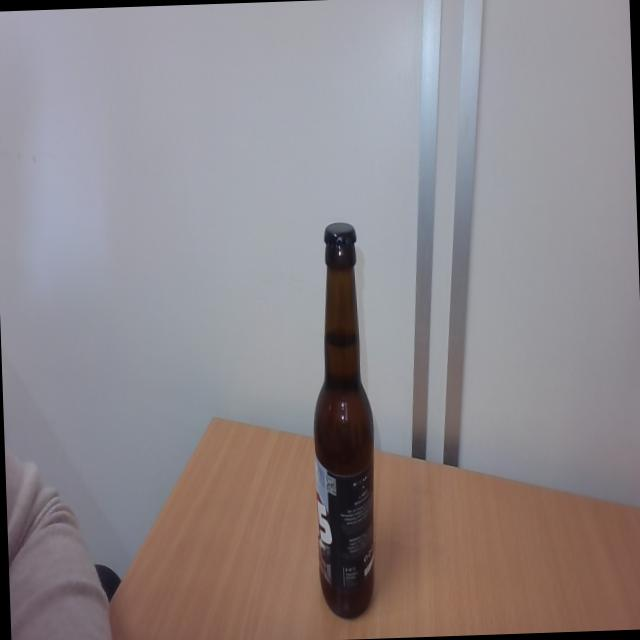Bottle: (306, 254, 379, 619)
Cap: (321, 219, 357, 251)
Label: (314, 460, 376, 587)
